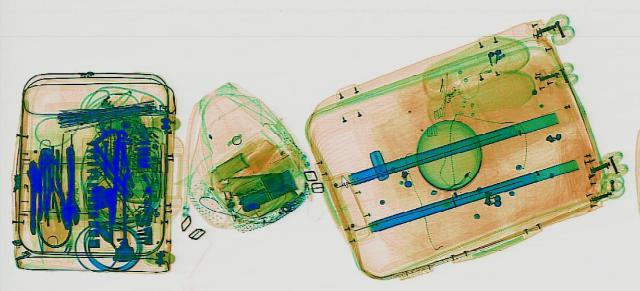Wrench: (57, 145, 81, 228)
